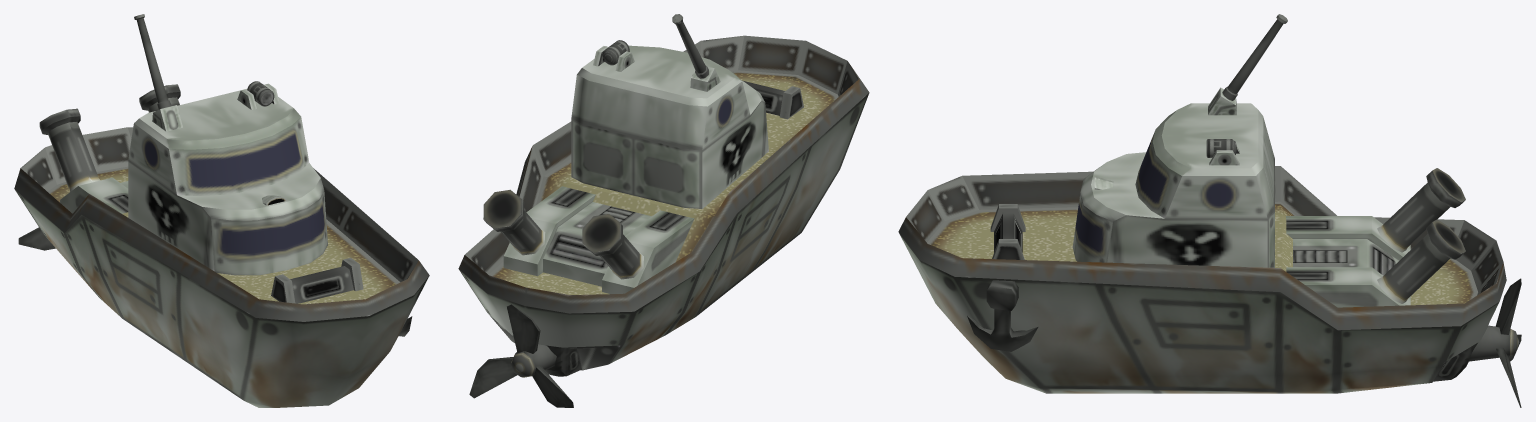
Rendered from ship.fbx.
3 views of the same model, side by side, from view 1: azimuth 30°, elevation 25°; view 2: azimuth 150°, elevation 25°; view 3: azimuth 270°, elevation 25° (orthographic). The views are drawn at different scales.
Visible parts, largest first — view 1: ship, skuryu; view 2: ship, skuryu; view 3: ship, skuryu.
Part boxes in pixels (<box>): ship: <box>14,14,429,407</box>; skuryu: <box>18,227,55,250</box>; ship: <box>458,14,869,376</box>; skuryu: <box>469,304,573,407</box>; ship: <box>898,14,1506,393</box>; skuryu: <box>1468,278,1521,407</box>.
Size of the model in its own units: 499 by 728 by 1190.
